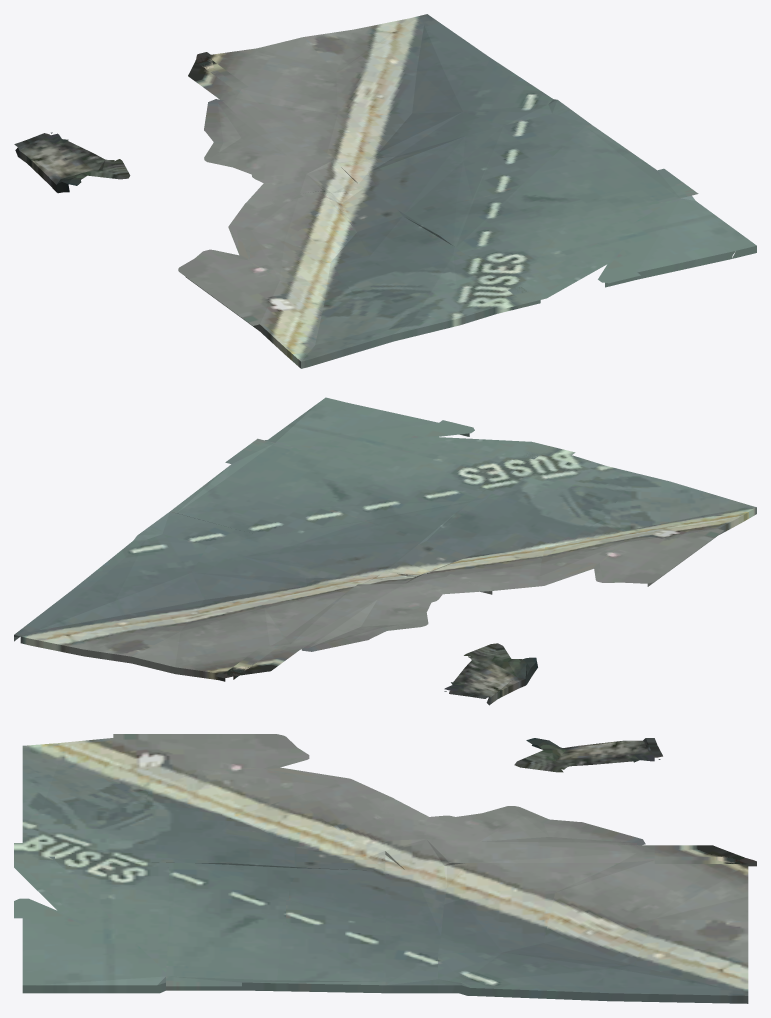
Rendered from BuildingMesh-00092.gltf.
3 renders of one model, top to bottom at view 1: azimuth 30°, elevation 25°; view 2: azimuth 150°, elevation 25°; view 3: azimuth 270°, elevation 25°, orthographic. The views are drawn at different scales.
Visible parts, largest first — view 1: BuildingMesh-00092; view 2: BuildingMesh-00092; view 3: BuildingMesh-00092.
Part boxes in pixels (x1=…): BuildingMesh-00092: x1=14, y1=14, x2=756, y2=368; BuildingMesh-00092: x1=14, y1=397, x2=756, y2=705; BuildingMesh-00092: x1=14, y1=734, x2=756, y2=1003.
Bounding box in the file's own units: 0.8 × 0.0314 × 0.9961.
1 material, 1 textured.
